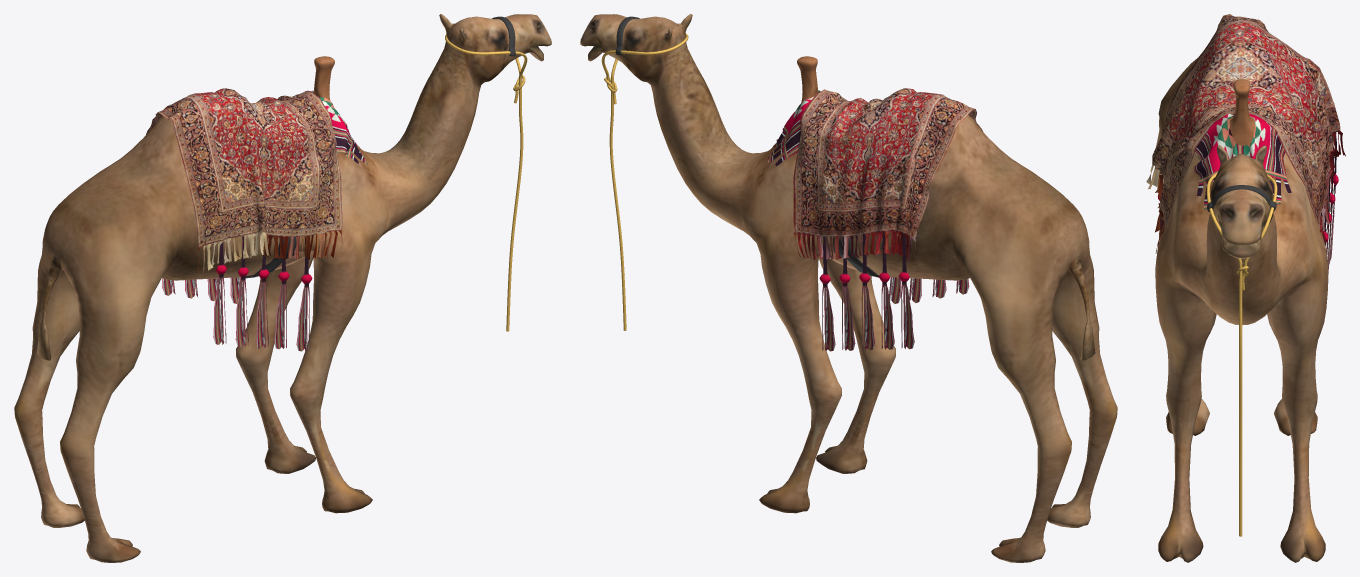
Rendered from camel.glb.
3 views of the same model, side by side, from view 1: azimuth 30°, elevation 25°; view 2: azimuth 150°, elevation 25°; view 3: azimuth 270°, elevation 25° (orthographic). The views are drawn at different scales.
Parts seen in each view (by area): view 1: c; view 2: c; view 3: c.
Boxes of the visible parts, x1,y1,x2,y2 form: c: (14, 14, 551, 562); c: (580, 14, 1117, 562); c: (1146, 14, 1345, 562).
Size of the model in its own units: 2.86 by 2.31 by 0.8665.
Materials: 1 (1 with a texture image).
